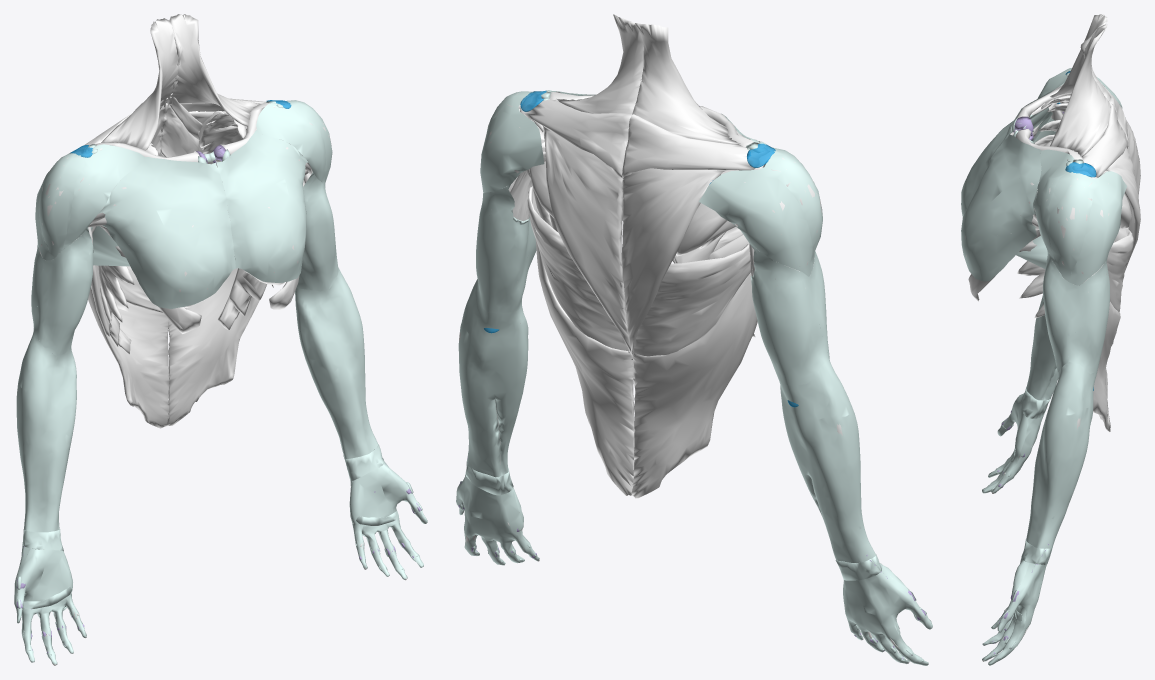
The model's file is elbow-wrist.glb.
3 views of the same model, side by side, from view 1: azimuth 30°, elevation 25°; view 2: azimuth 150°, elevation 25°; view 3: azimuth 270°, elevation 25° (orthographic). The views are drawn at different scales.
Visible parts, largest first — view 1: Pectoral fascia.r, Pectoral fascia.l, Antebrachial fascia.r, Antebrachial fascia.l, Latissimus dorsi muscle.l, Latissimus dorsi muscle.r, Deltoid fascia.r, Brachial fascia.r, Palmar aponeurosis.l, Palmar aponeurosis.r, Ascending part of trapezius muscle.r, Ascending part of trapezius muscle.l (+9 smaller); view 2: Latissimus dorsi muscle.r, Latissimus dorsi muscle.l, Antebrachial fascia.r, Descending part of trapezius muscle.l, Antebrachial fascia.l, Deltoid fascia.r, Descending part of trapezius muscle.r, Brachial fascia.r, Brachial fascia.l, Ascending part of trapezius muscle.r, Transverse part of trapezius muscle.r, Deltoid fascia.l (+6 smaller); view 3: Deltoid fascia.l, Pectoral fascia.l, Antebrachial fascia.l, Brachial fascia.l, Ascending part of trapezius muscle.l, Latissimus dorsi muscle.l, Antebrachial fascia.r, Transverse part of trapezius muscle.l, Dorsal fascia of hand.l, Palmar aponeurosis.l, Palmar aponeurosis.r, Pectoral fascia.r (+17 smaller).
Boxes of the visible parts, <box> form: Pectoral fascia.r: <box>99,157,235,308</box>; Pectoral fascia.l: <box>216,130,308,282</box>; Antebrachial fascia.r: <box>16,336,76,532</box>; Antebrachial fascia.l: <box>295,268,378,458</box>; Latissimus dorsi muscle.l: <box>166,268,266,425</box>; Latissimus dorsi muscle.r: <box>88,265,169,428</box>; Deltoid fascia.r: <box>35,144,144,260</box>; Brachial fascia.r: <box>31,227,93,355</box>; Palmar aponeurosis.l: <box>349,463,427,579</box>; Palmar aponeurosis.r: <box>16,548,86,664</box>; Ascending part of trapezius muscle.r: <box>101,18,182,150</box>; Ascending part of trapezius muscle.l: <box>166,14,260,126</box>; Latissimus dorsi muscle.r: <box>631,243,757,498</box>; Latissimus dorsi muscle.l: <box>527,186,634,495</box>; Antebrachial fascia.r: <box>778,358,875,562</box>; Descending part of trapezius muscle.l: <box>543,126,632,354</box>; Antebrachial fascia.l: <box>458,279,528,477</box>; Deltoid fascia.r: <box>699,127,822,276</box>; Descending part of trapezius muscle.r: <box>622,168,726,354</box>; Brachial fascia.r: <box>749,243,829,385</box>; Brachial fascia.l: <box>476,181,536,313</box>; Ascending part of trapezius muscle.r: <box>632,23,740,144</box>; Transverse part of trapezius muscle.r: <box>621,114,769,178</box>; Deltoid fascia.l: <box>480,91,595,192</box>; Deltoid fascia.l: <box>1034,149,1126,285</box>; Pectoral fascia.l: <box>961,132,1041,281</box>; Antebrachial fascia.l: <box>1026,362,1097,548</box>; Brachial fascia.l: <box>1043,249,1109,373</box>; Ascending part of trapezius muscle.l: <box>1050,24,1110,156</box>; Latissimus dorsi muscle.l: <box>1093,230,1133,431</box>; Antebrachial fascia.r: <box>1026,295,1058,400</box>; Transverse part of trapezius muscle.l: <box>1074,102,1128,177</box>; Dorsal fascia of hand.l: <box>984,563,1046,665</box>; Palmar aponeurosis.l: <box>982,557,1029,664</box>; Palmar aponeurosis.r: <box>982,394,1028,492</box>; Pectoral fascia.r: <box>961,97,1041,217</box>.
Size of the model in its own units: 0.6708 by 0.8758 by 0.2571.
